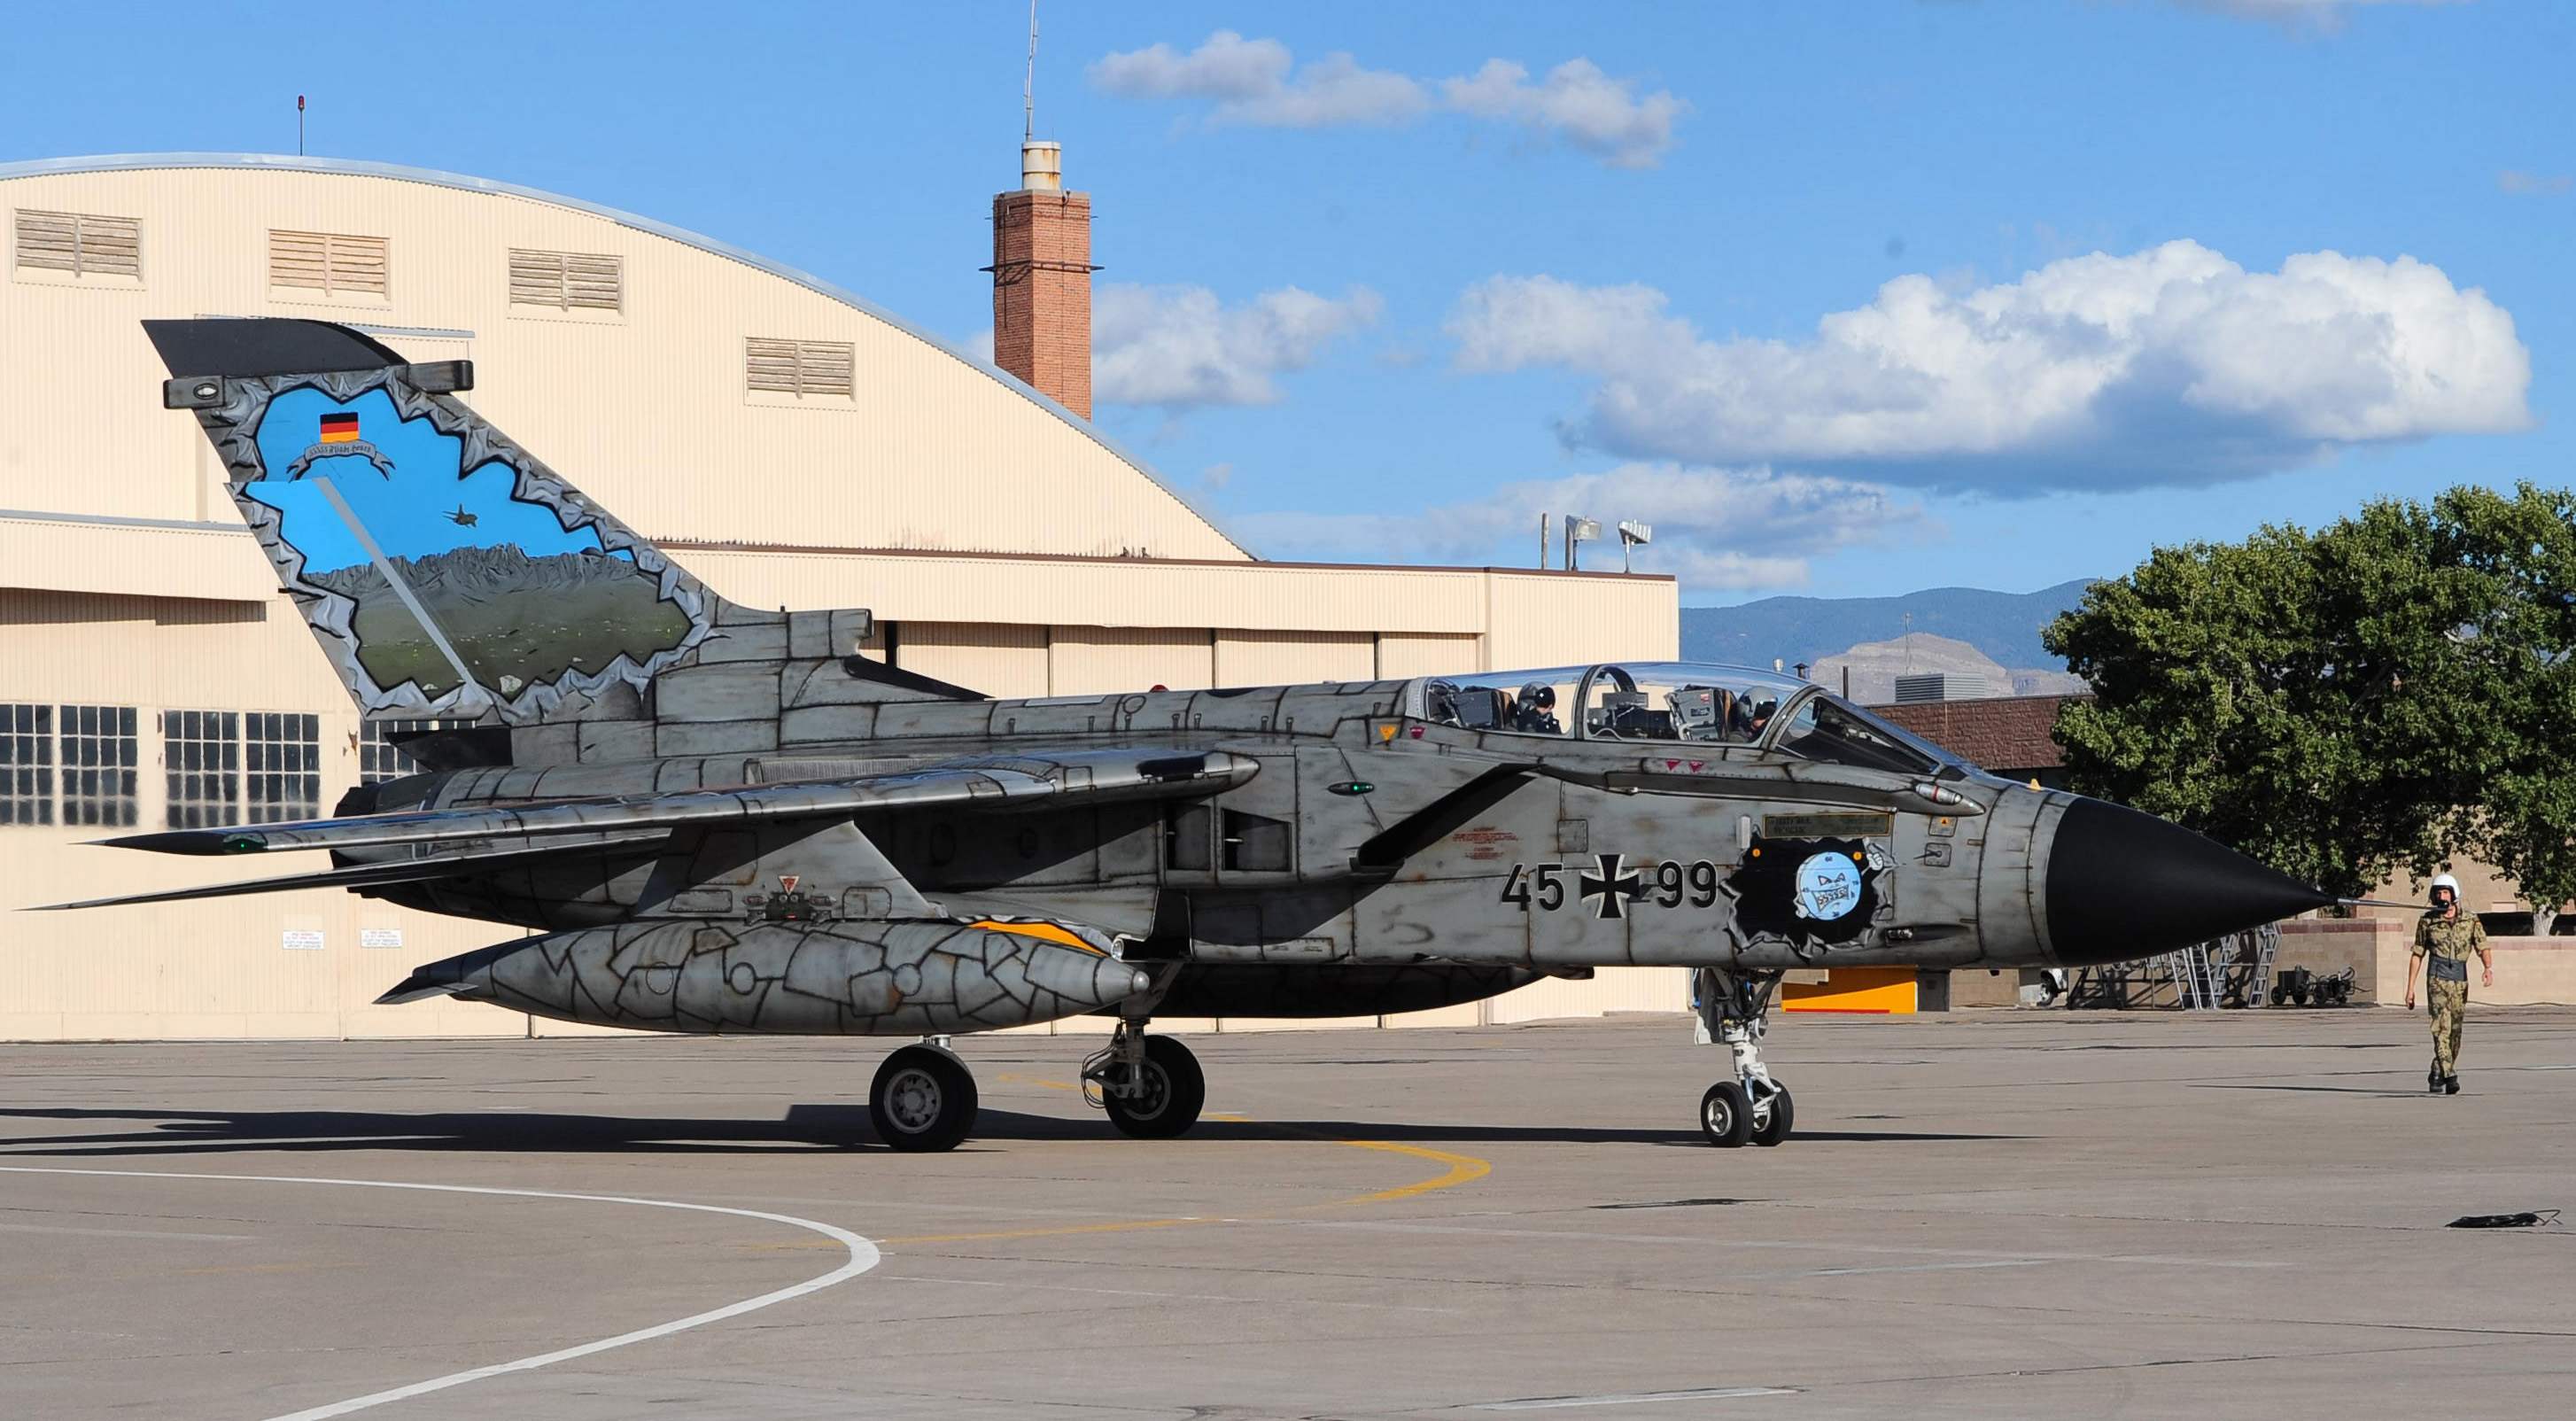Tornado: (9, 317, 2454, 1150)
